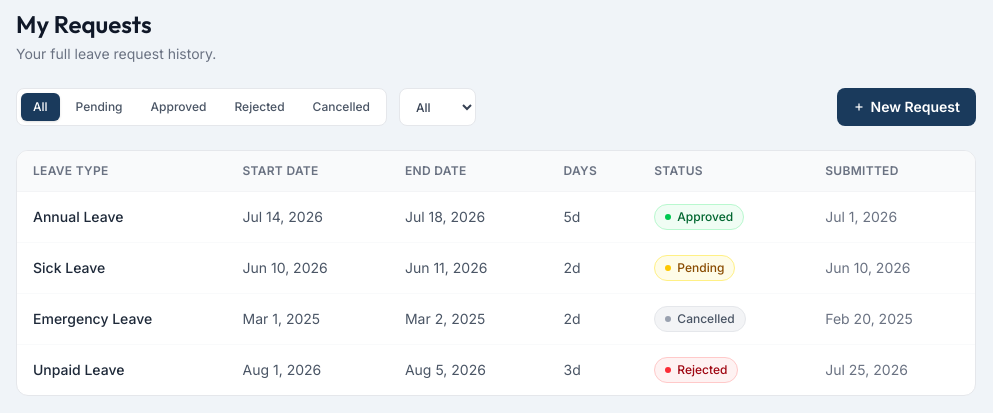
it: MyRequests list › filters by status and year independently and combined (AND)
Check: the text "Annual Leave" is shown, box [17,192,226,242]
Click the button "Pending". click: {"x": 99, "y": 107}
box: [64,93,135,121]
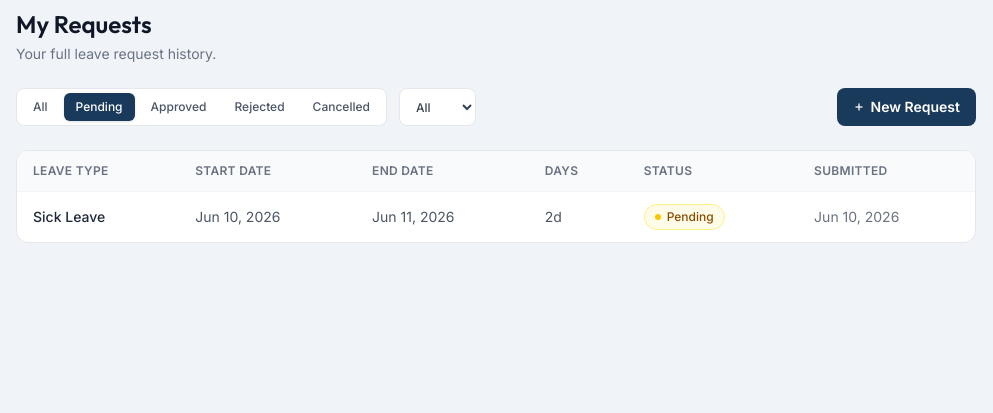
Check: the text "Sick Leave" is shown, box [17,192,179,242]
Check: the button "Annual Leave" is gone
Check: the button "Emergency Leave" is gone
Select "2025" in the dropdown named "Filter by year". click: {"x": 437, "y": 107}
box: [399,88,476,126]
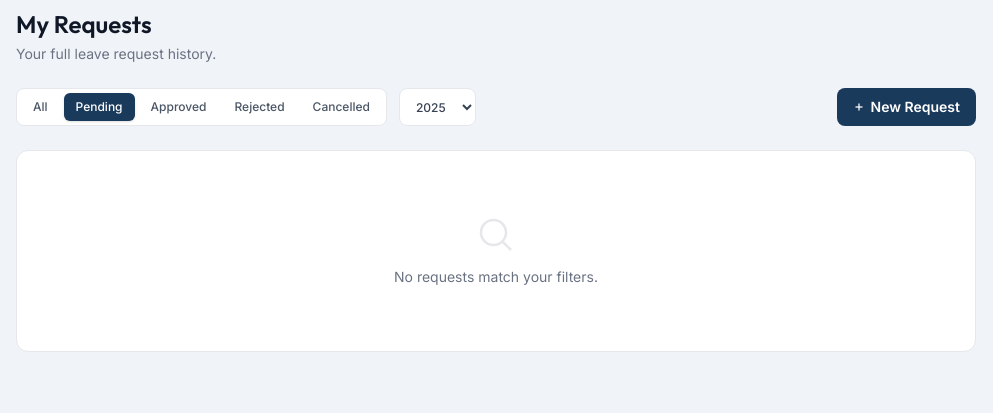
Check: the text "No requests match your filters." is shown, box [394,268,598,285]
Check: the button "Sick Leave" is gone
Click the button "All". click: {"x": 40, "y": 107}
box: [21,93,60,121]
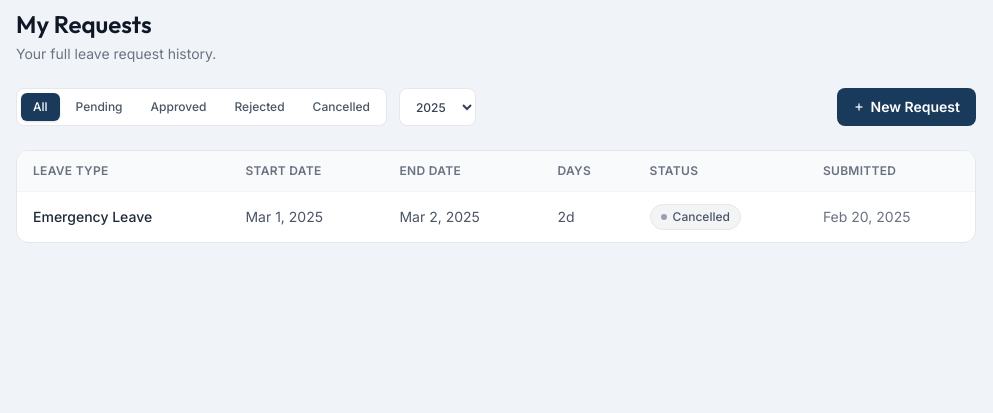
Check: the button "Annual Leave" is not shown
Check: the text "Emergency Leave" is shown, box [17,192,229,242]
